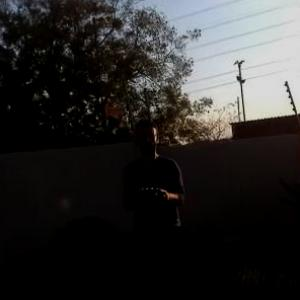follow: (120, 112, 193, 299)
